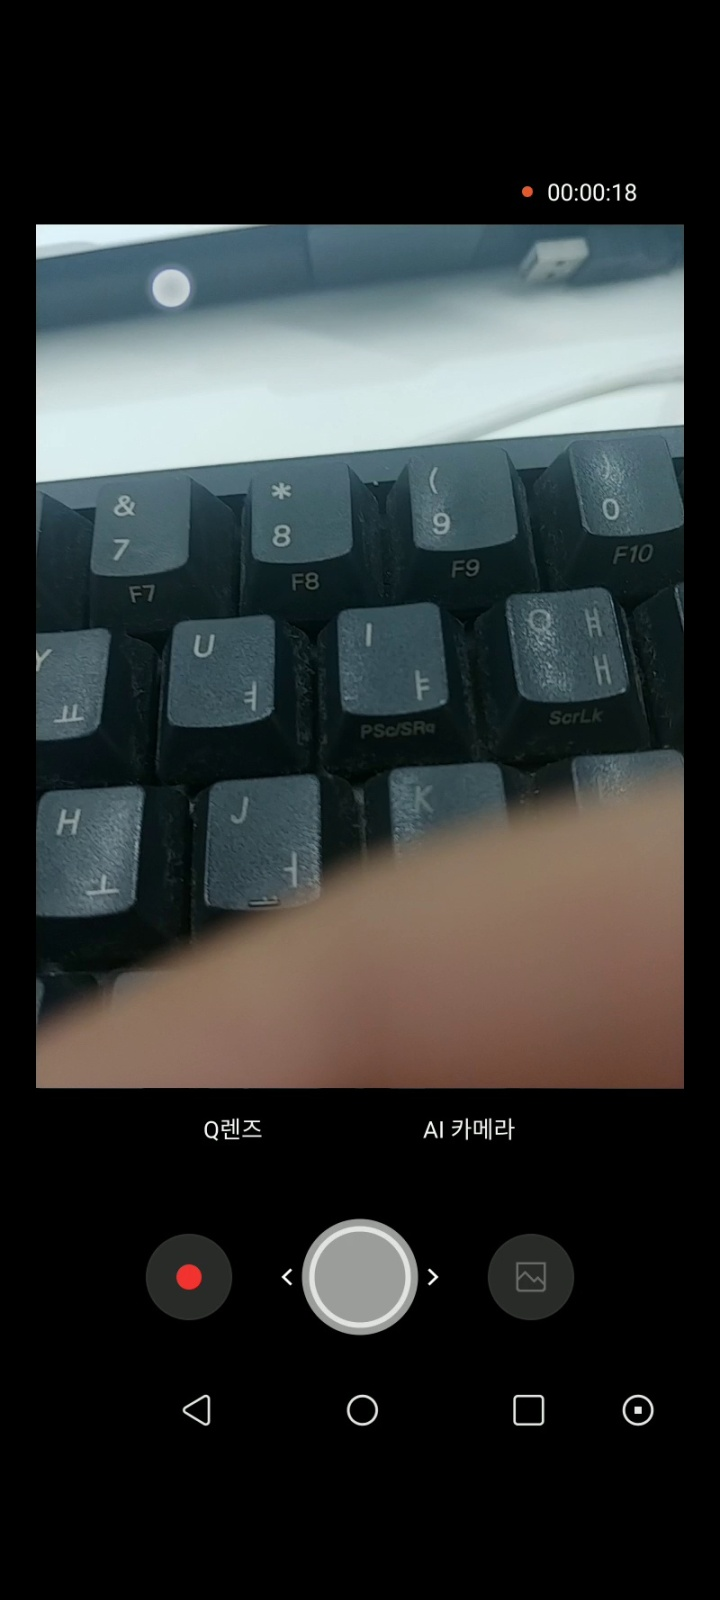Cursor: (149, 267, 194, 312)
